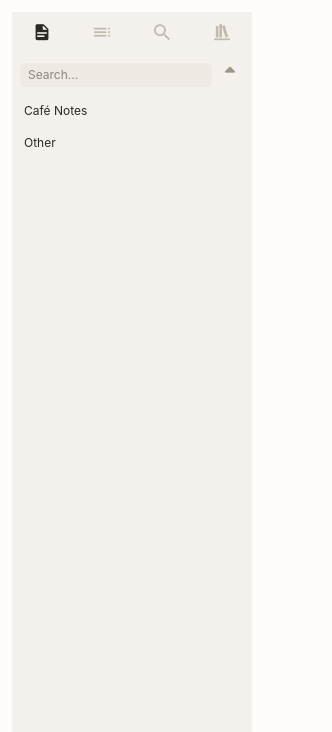
Test: Sidebar accent-insensitive filter › filters pages with accent-insensitive matching
The width and height of the screenshot is (332, 732).
Type "cafe" into the field named "Search pages" at (116, 75), box [20,63,212,87]
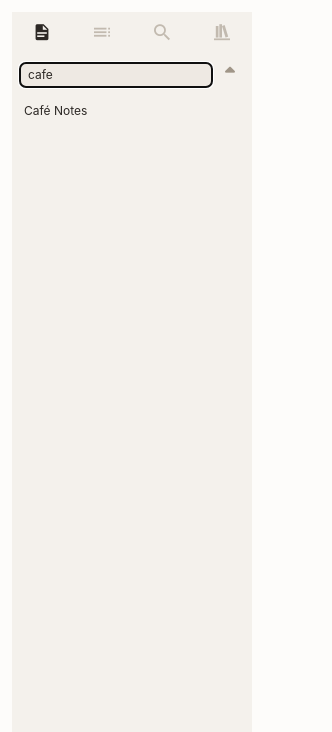
Expected: the button "Café Notes" is shown, [16,99,248,123]
Result: the button "Other" is gone
